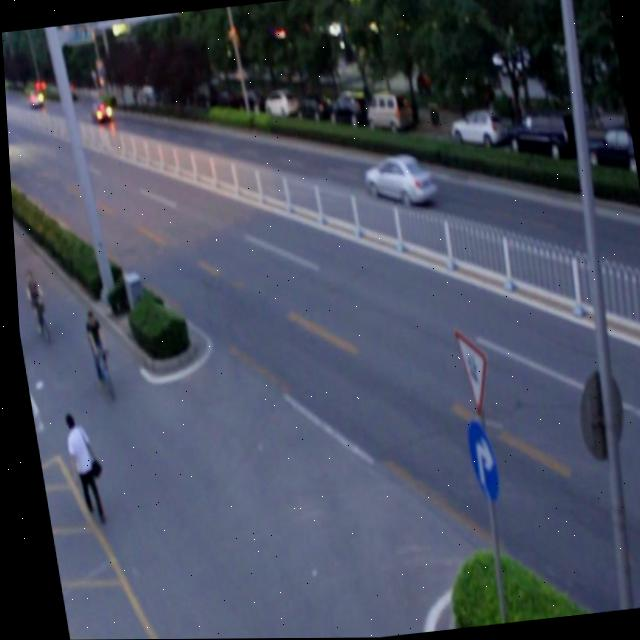car: (358, 149, 437, 214)
